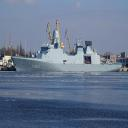Fragata: (10, 26, 123, 74)
